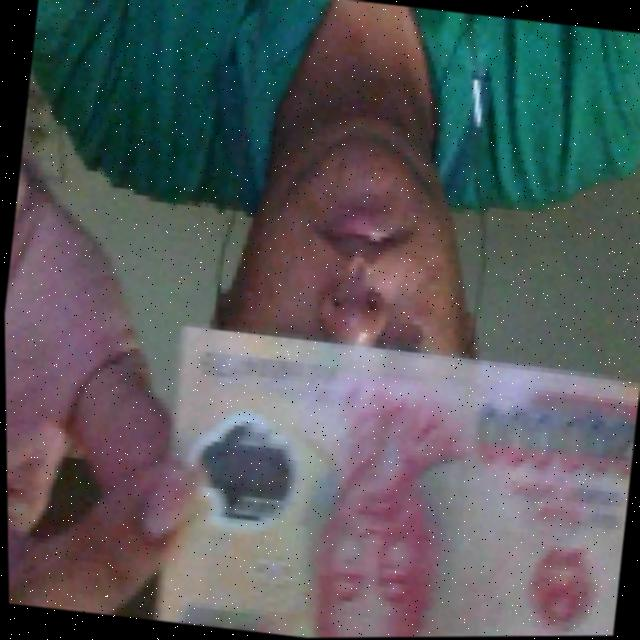200 000 VND: (137, 316, 640, 639)
